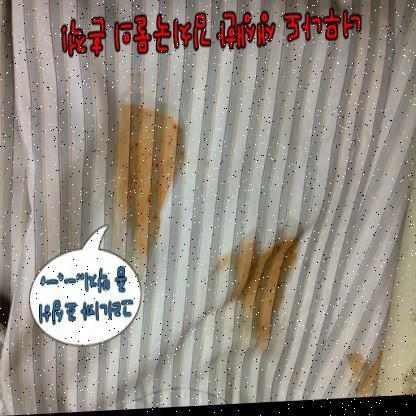kimchi: (213, 234, 304, 361), (116, 104, 188, 255), (340, 346, 381, 396)
